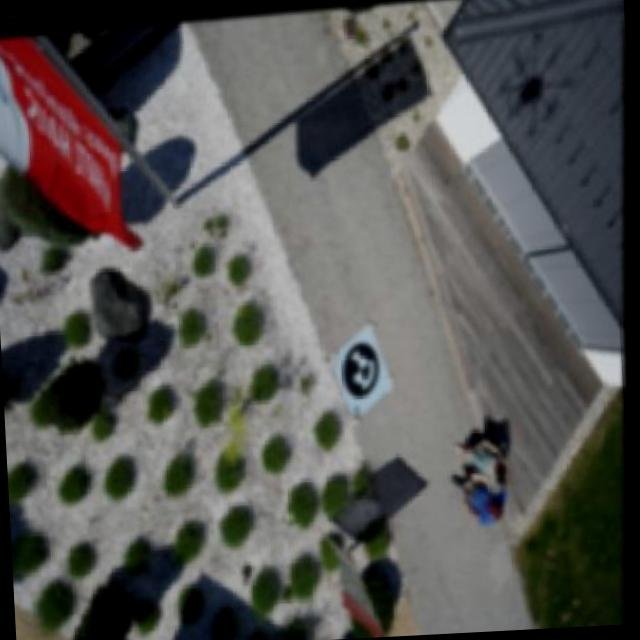Person: (454, 464, 525, 530), (461, 422, 528, 486)
